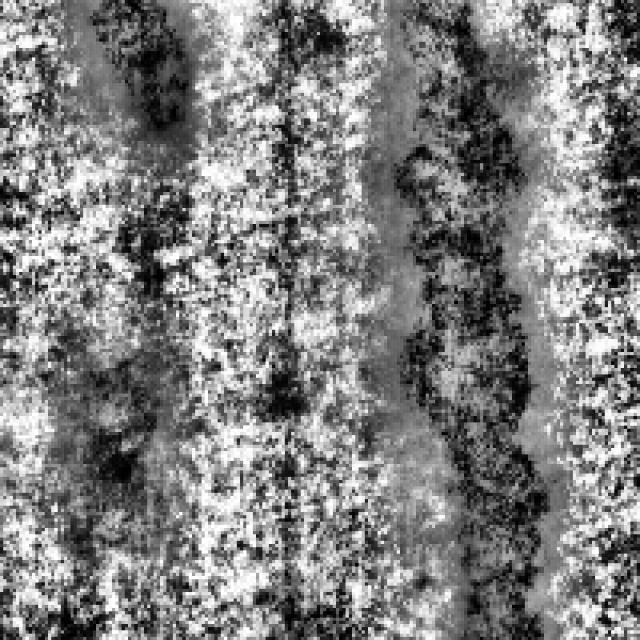Scratches: (377, 0, 547, 630), (64, 0, 195, 134), (58, 339, 164, 486)
